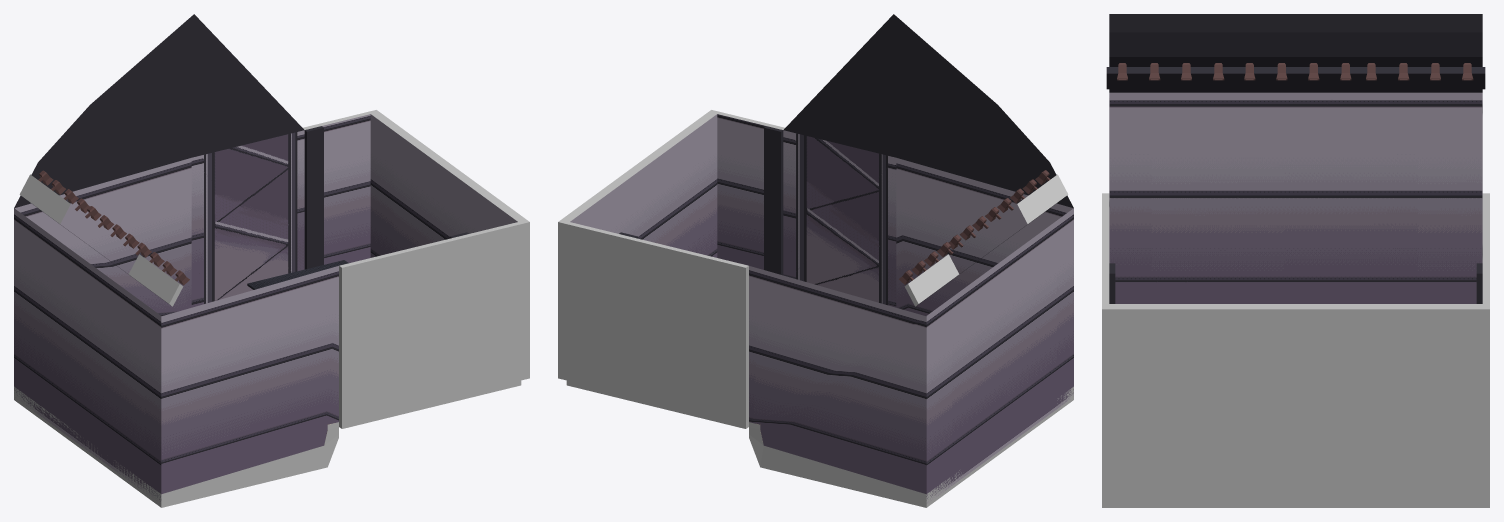
File: stage.fbx
3 views of the same model, side by side, from view 1: azimuth 30°, elevation 25°; view 2: azimuth 150°, elevation 25°; view 3: azimuth 270°, elevation 25° (orthographic). The views are drawn at different scales.
Parts seen in each view (by area): view 1: Stage, lights up, VHS_stand; view 2: Stage, lights up; view 3: Stage, lights up.
Part boxes in pixels (<box>): Stage: <box>14,14,529,507</box>; lights up: <box>38,170,189,285</box>; VHS_stand: <box>247,260,348,289</box>; Stage: <box>558,14,1073,507</box>; lights up: <box>899,170,1050,284</box>; Stage: <box>1102,14,1489,507</box>; lights up: <box>1117,63,1473,80</box>.
Size of the model in its own units: 2595 by 2321 by 1886.
